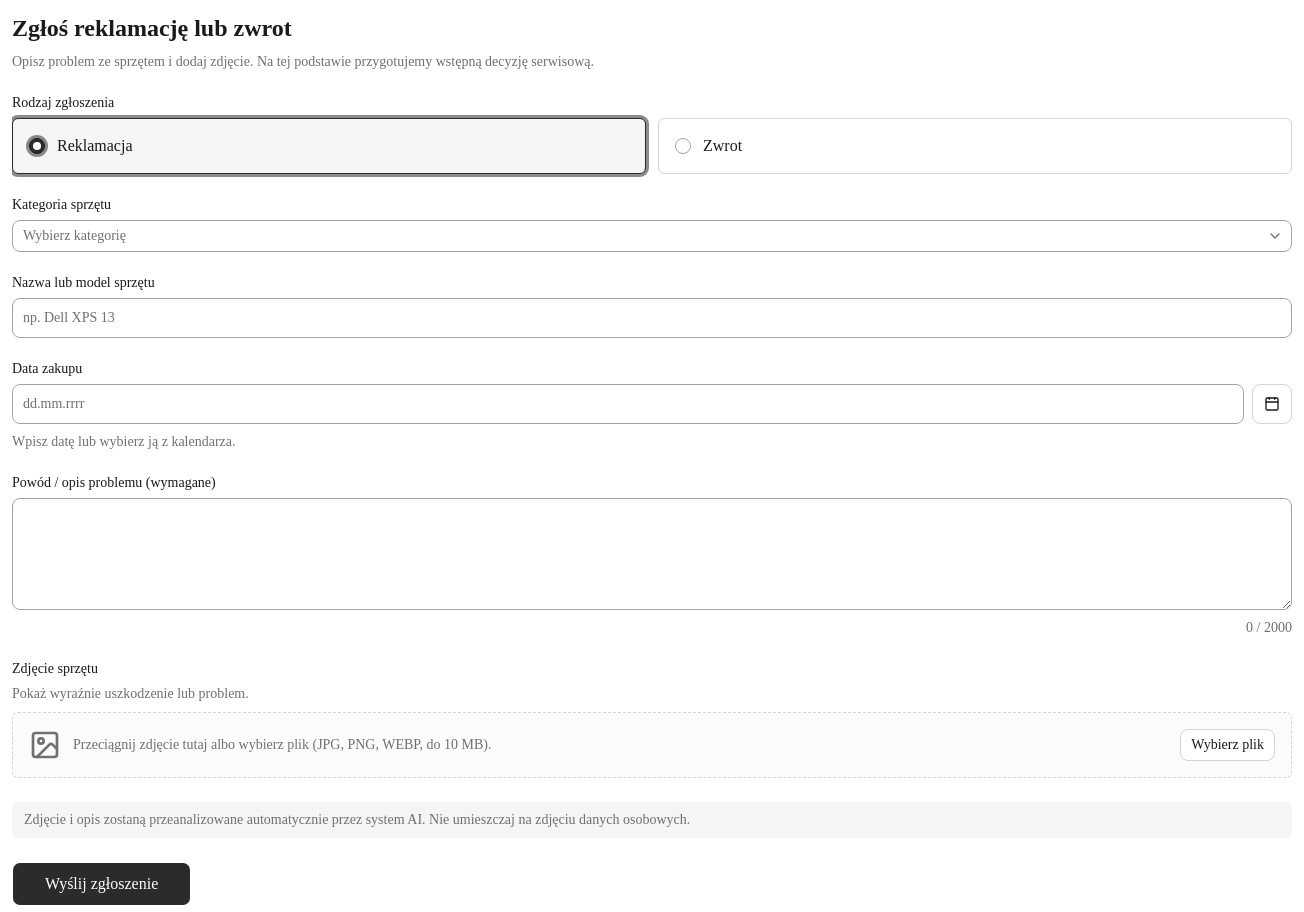
Scenario: AI notice and submit (AC-11, AC-12) › flags only the missing photo when everything else is valid and focuses it
The width and height of the screenshot is (1304, 912).
Earlier steps of the test are not shown.
Click the dropdown named "Kategoria sprzętu". click: (74, 236)
box: [12,220,1292,252]
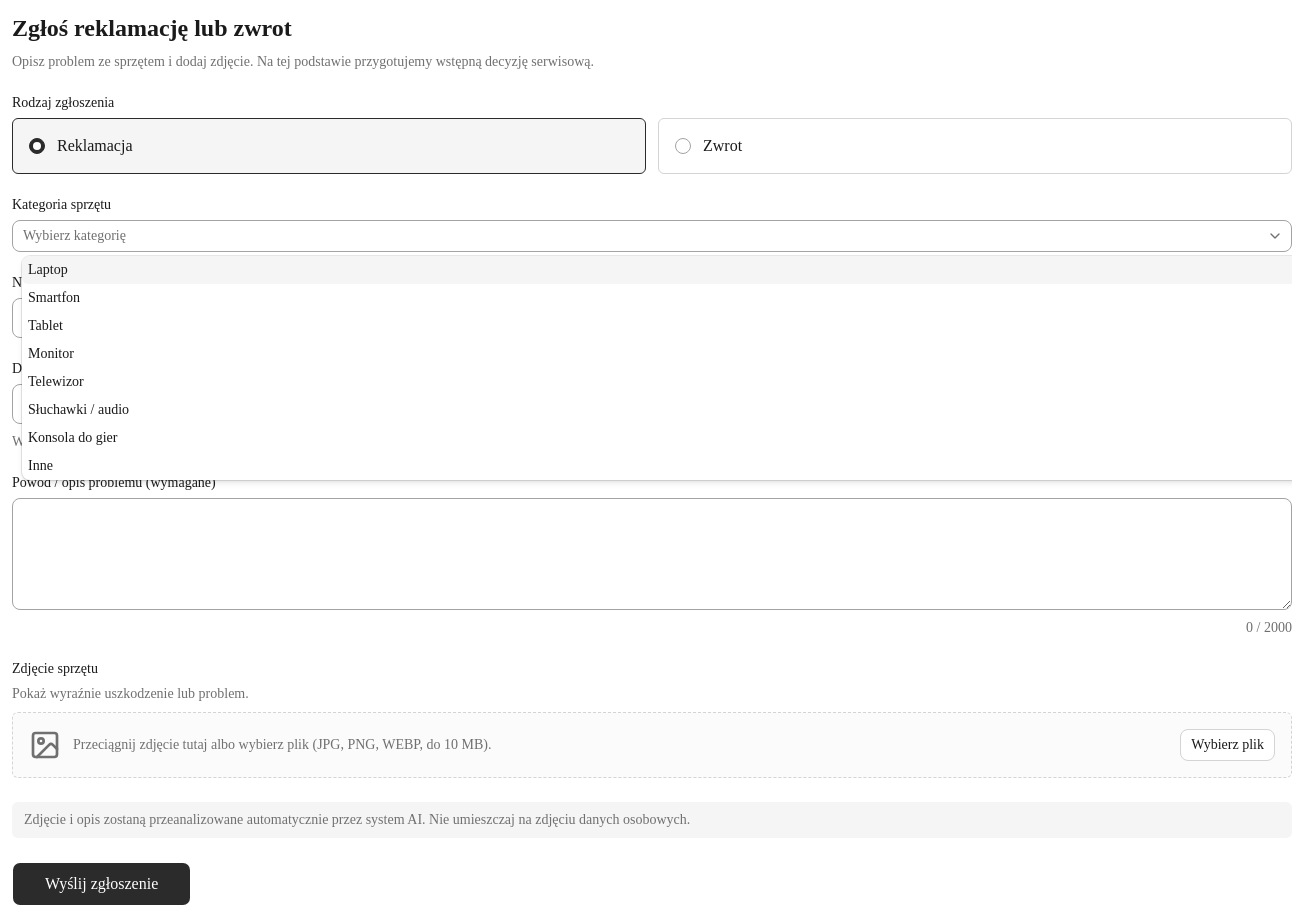
Click the option "Laptop". click: (48, 270)
box: [22,256,1292,284]
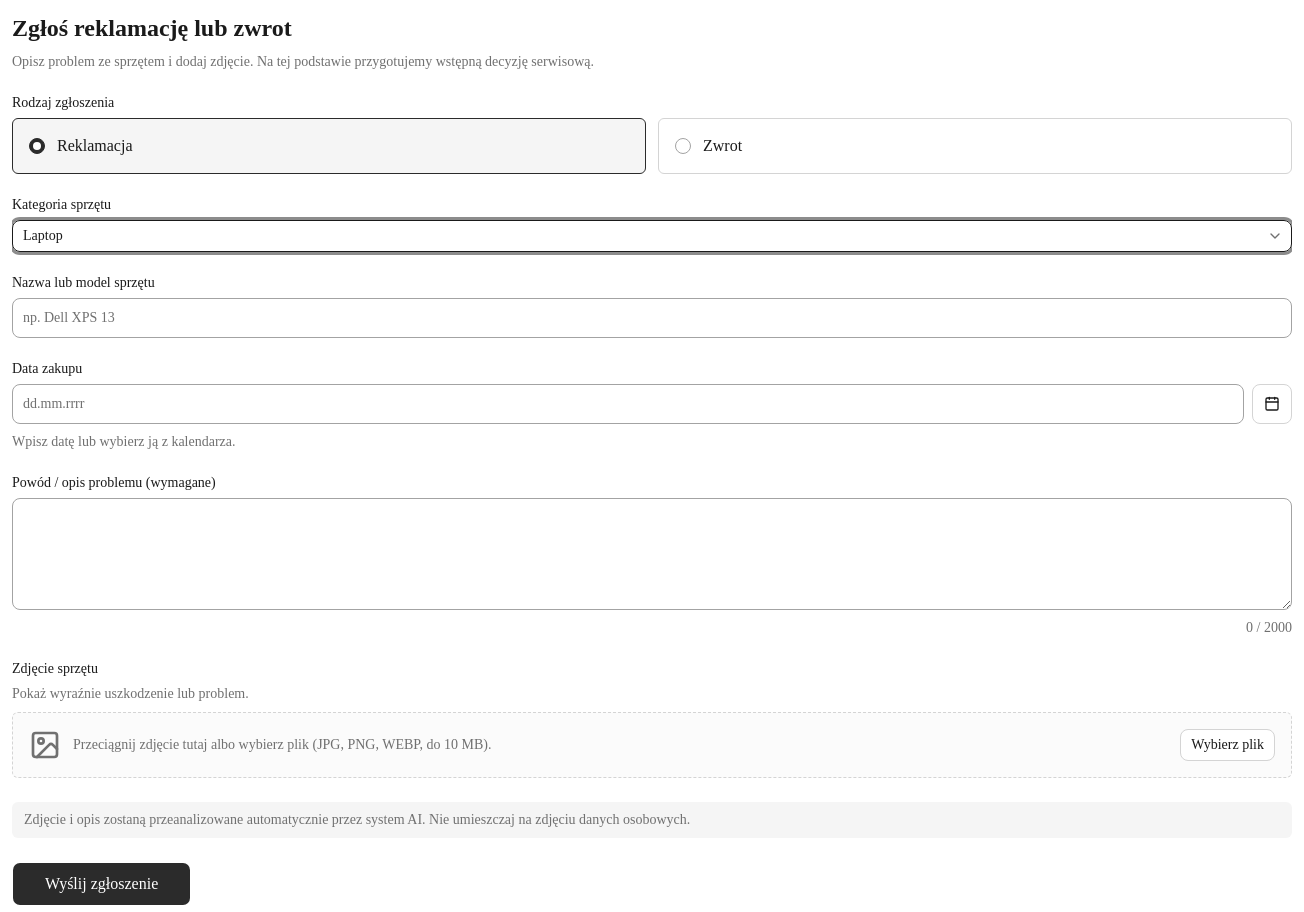
Type "Dell XPS 13" into the field labelled "Nazwa lub model sprzętu". click: (652, 318)
box: [12,298,1292,338]
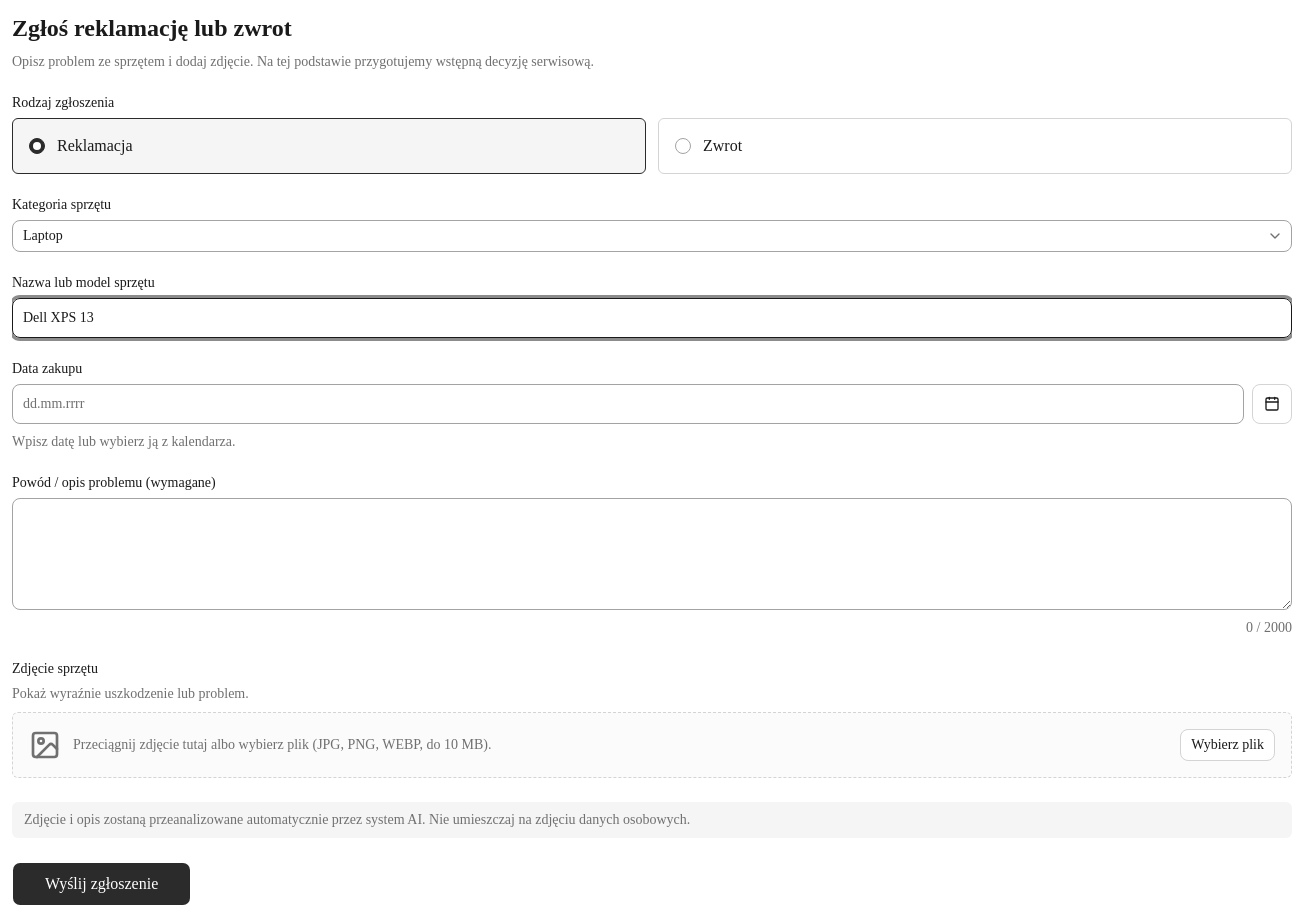
Type "20.11.2026" into the field labelled "Data zakupu". click: (628, 404)
box: [12,384,1244,424]
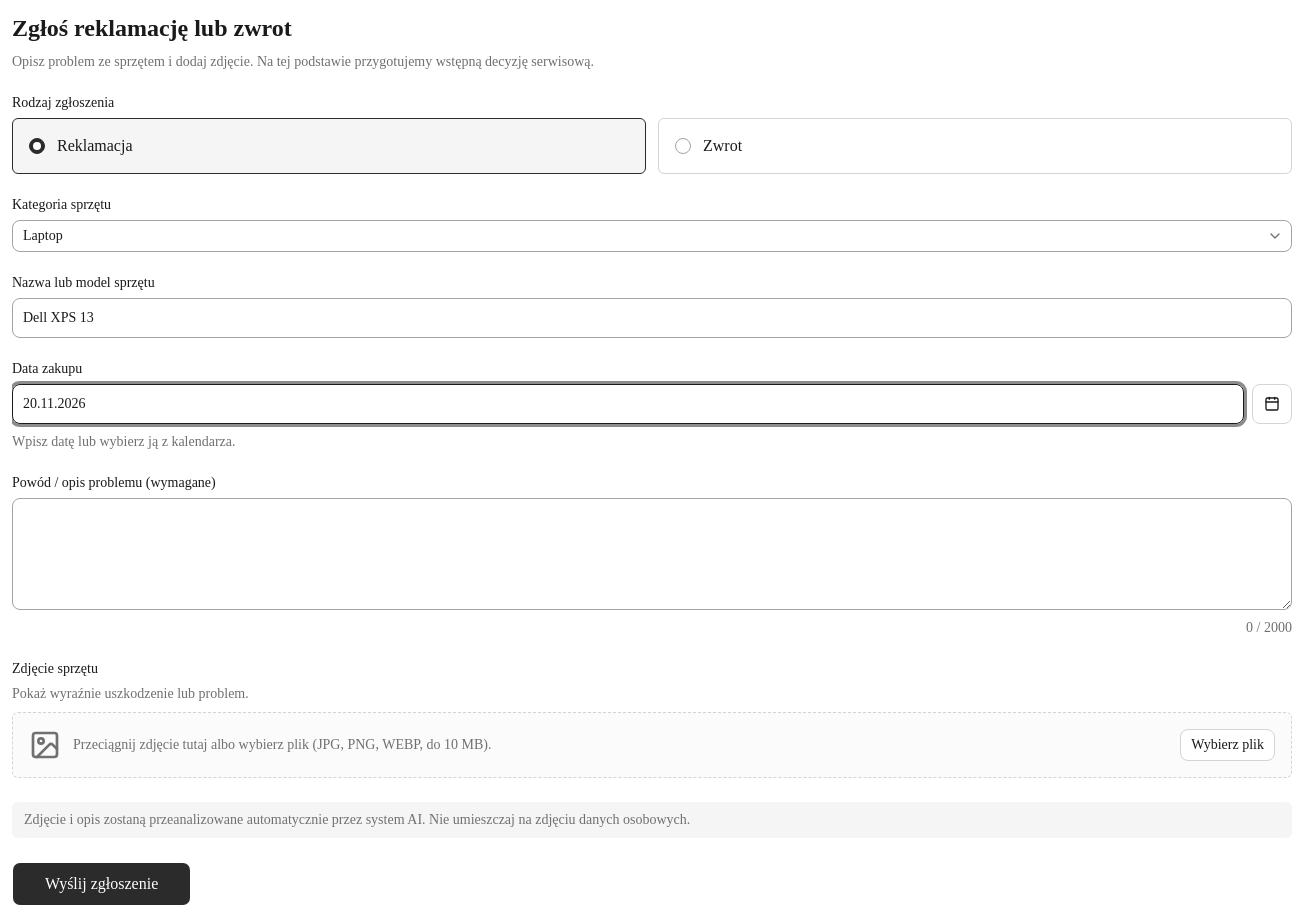
Type "Ekran przestaje reagować po kilku minutach pracy." into the text box labelled "Powód / opis problemu (wymagane)". click: (652, 554)
box: [12,498,1292,610]
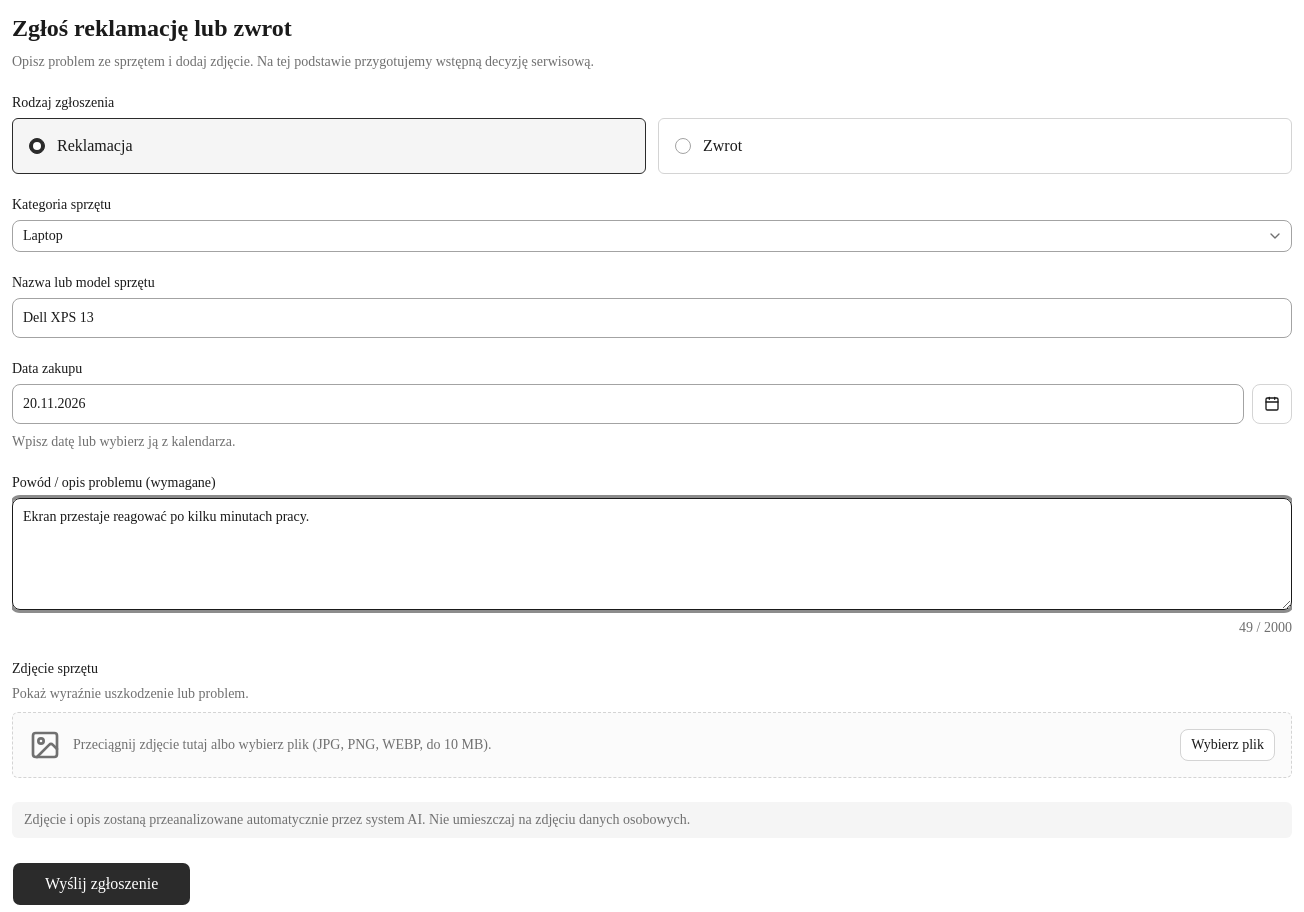
Click the button "Wyślij zgłoszenie". click: (102, 884)
box: [12,862,191,906]
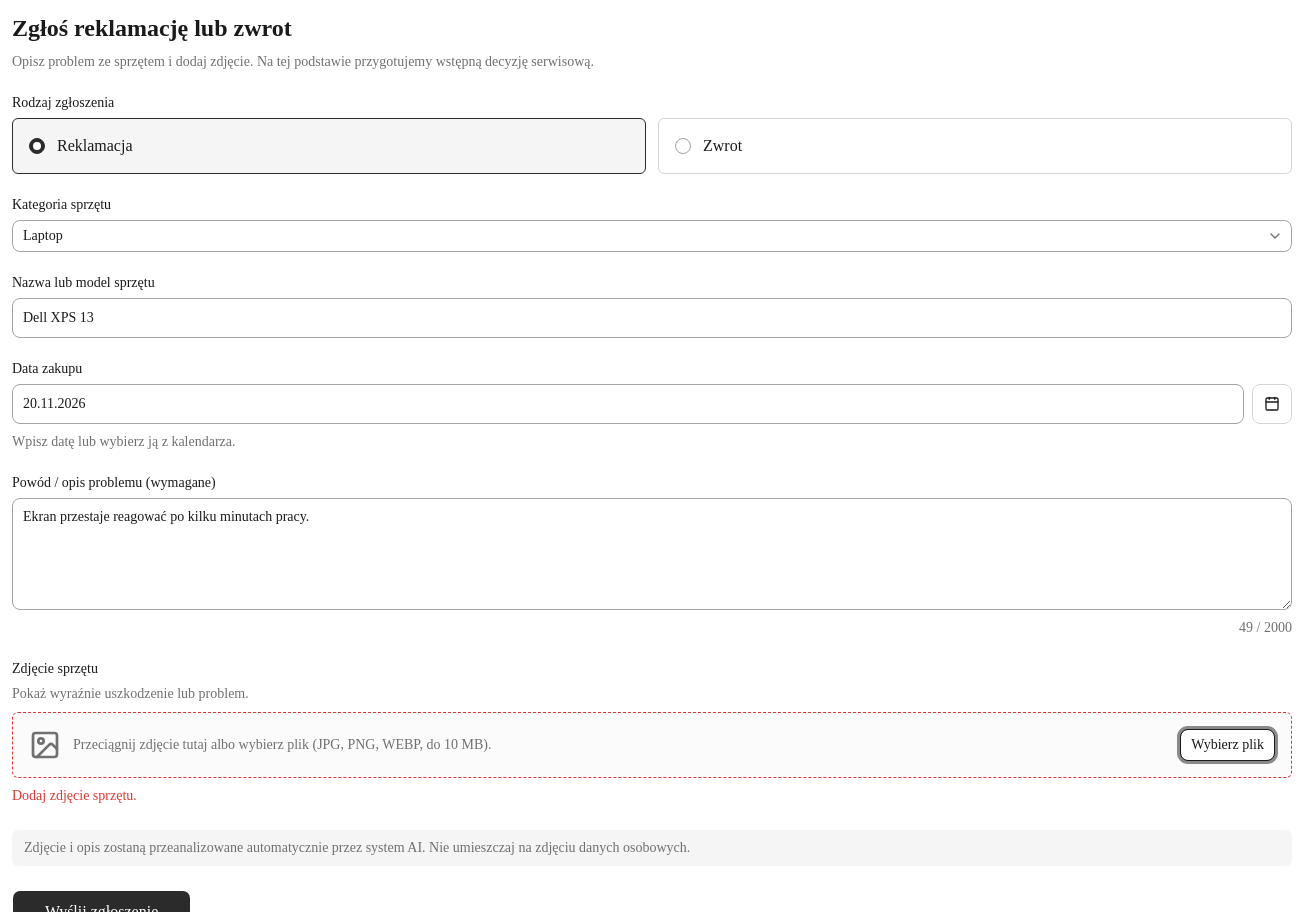
expect the text "Dodaj zdjęcie sprzętu." is shown: met, box [12,788,137,803]
